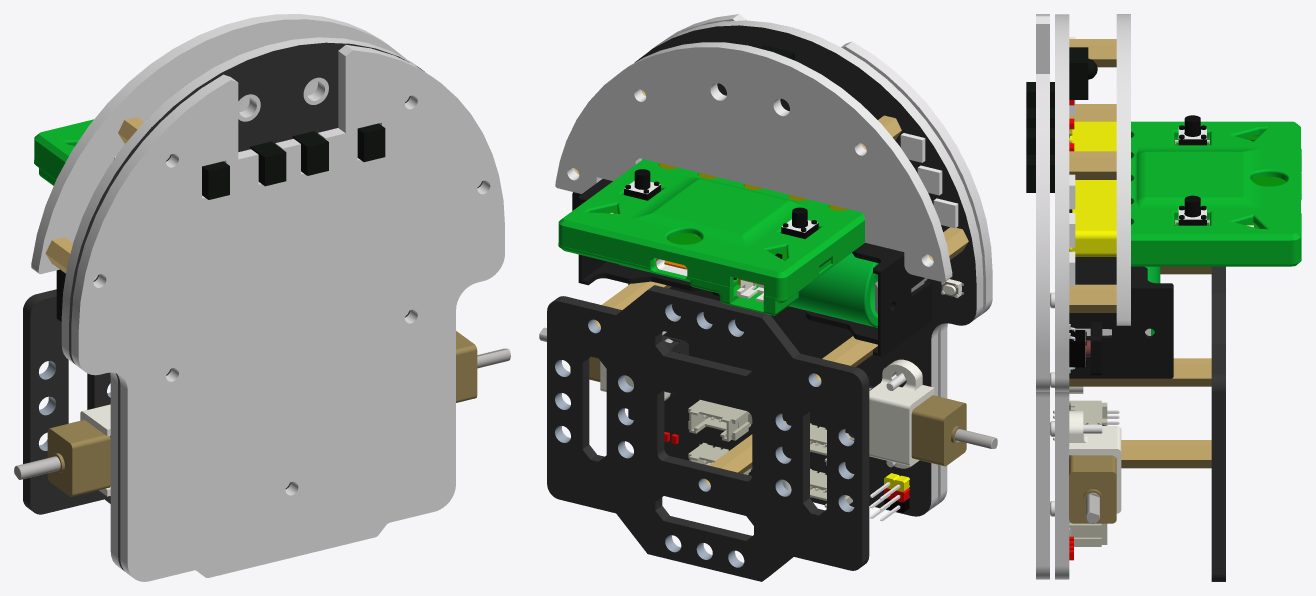
File: rover_chassis.glb
3 renders of one model, left to right at view 1: azimuth 30°, elevation 25°; view 2: azimuth 150°, elevation 25°; view 3: azimuth 270°, elevation 25°, orthographic. The views are drawn at different scales.
Parts seen in each view (by area): view 1: ROVER_CHASSIS_YOLOBIT_SW; view 2: ROVER_CHASSIS_YOLOBIT_SW; view 3: ROVER_CHASSIS_YOLOBIT_SW.
Part boxes in pixels (bbox=[...]): ROVER_CHASSIS_YOLOBIT_SW: bbox=[14, 14, 510, 581]; ROVER_CHASSIS_YOLOBIT_SW: bbox=[539, 14, 997, 581]; ROVER_CHASSIS_YOLOBIT_SW: bbox=[1026, 14, 1301, 581].
Size of the model in its own units: 0.1149 by 0.117 by 0.0579.
1 material, 1 textured.
